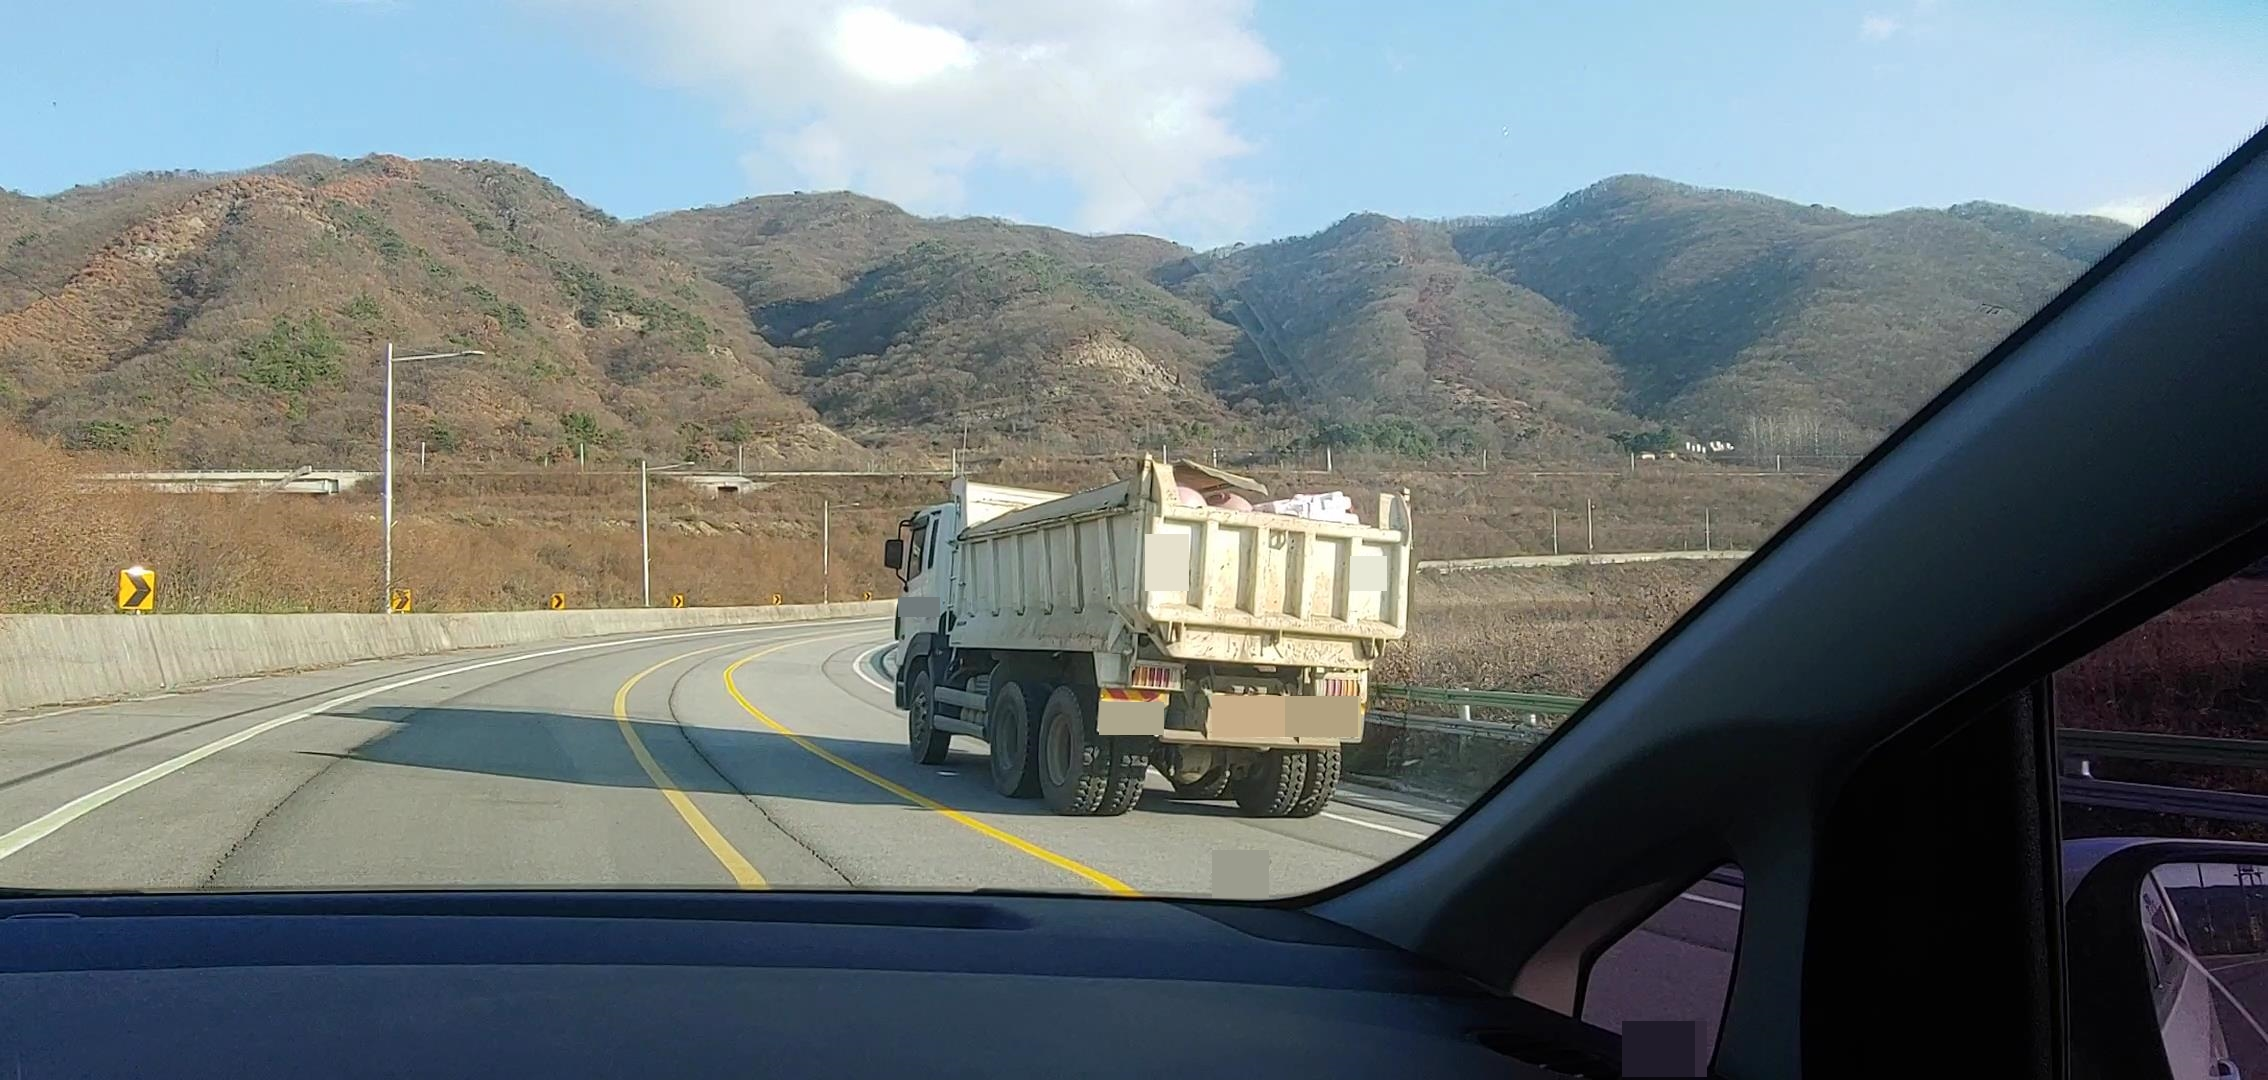불법차량: (884, 450, 1425, 816)
